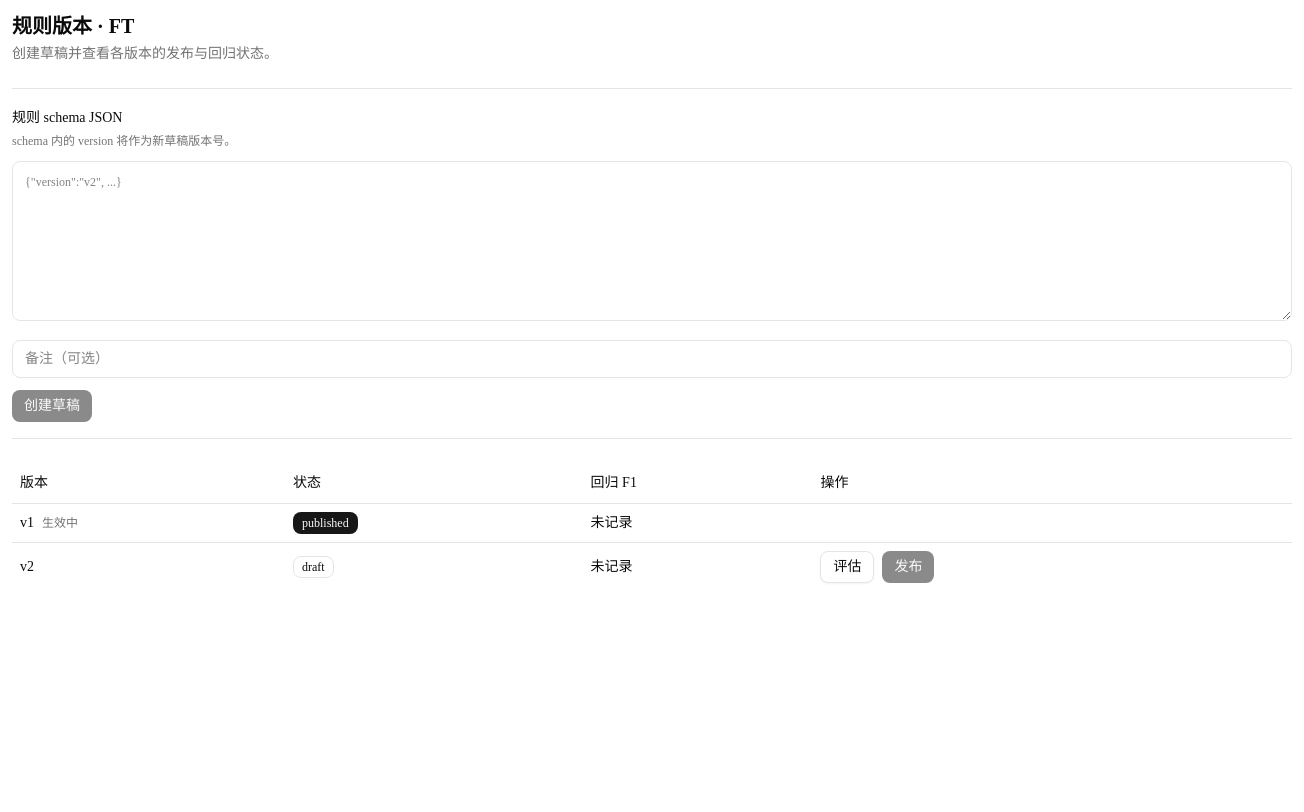
Scenario: RuleManagementView › shows the draft-vs-baseline comparison and approximation warning
Expected: the button with aria-label "发布 v2" is disabled, [882,550,934,582]
Click the button with aria-label "评估 v2": {"x": 847, "y": 566} [820,550,874,582]
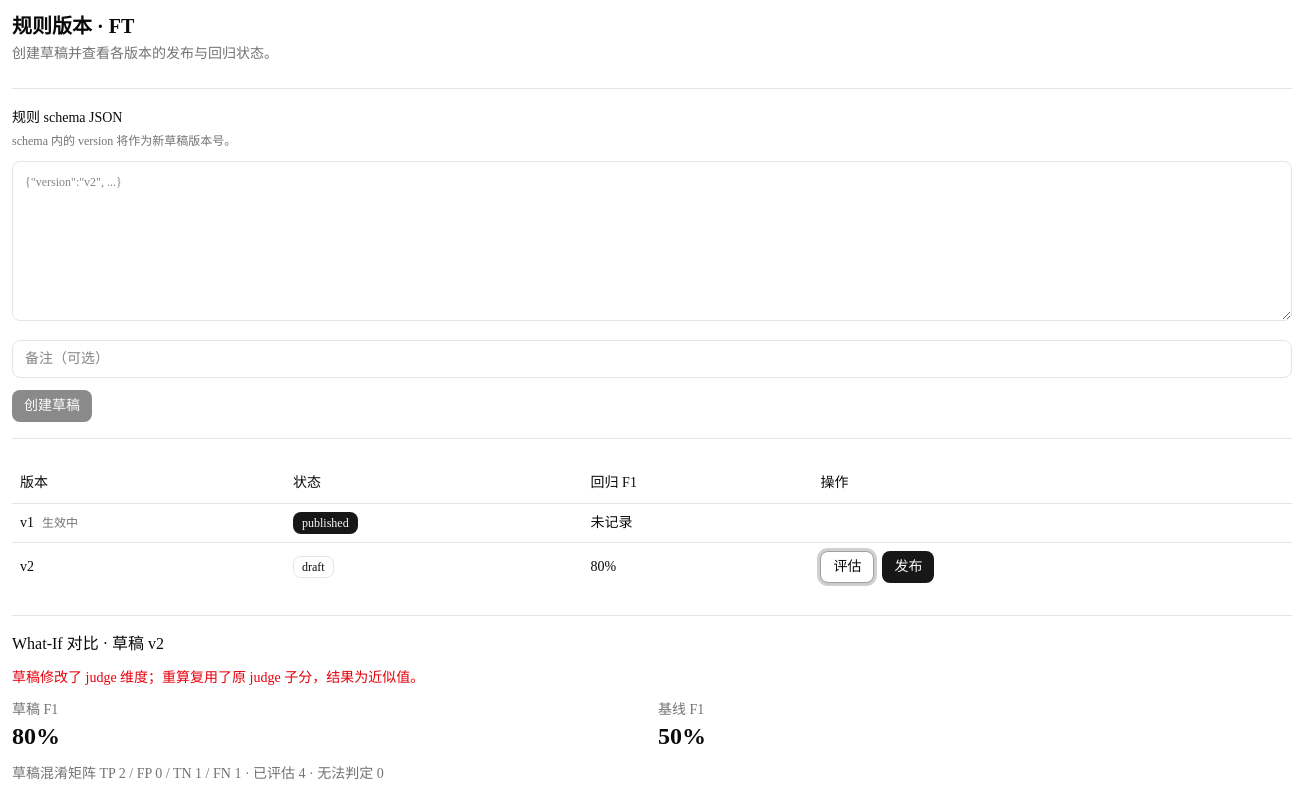
Expected: the text "80%" is shown 2 times, [583,542,812,590]; [12,722,60,748]
Now the text "草稿 F1" is shown, box [12,702,58,716]
Now the text "草稿修改了 judge 维度；重算复用了原 judge 子分，结果为近似值。" is shown, box [12,670,424,684]
